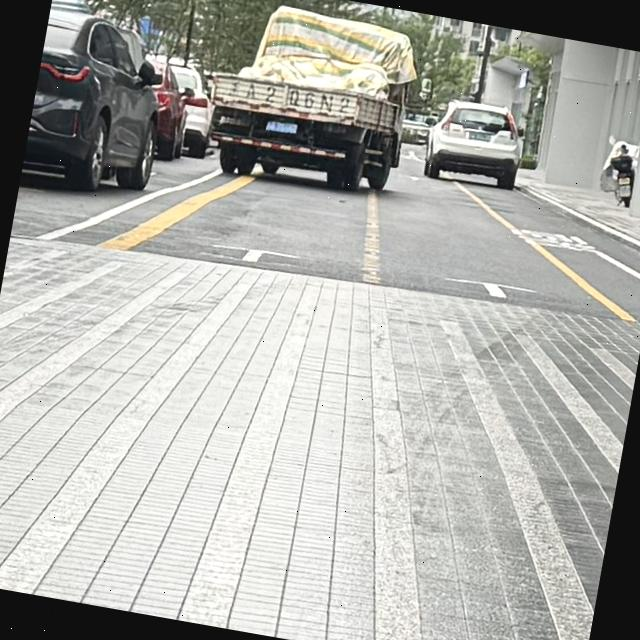curb: (519, 184, 640, 251)
